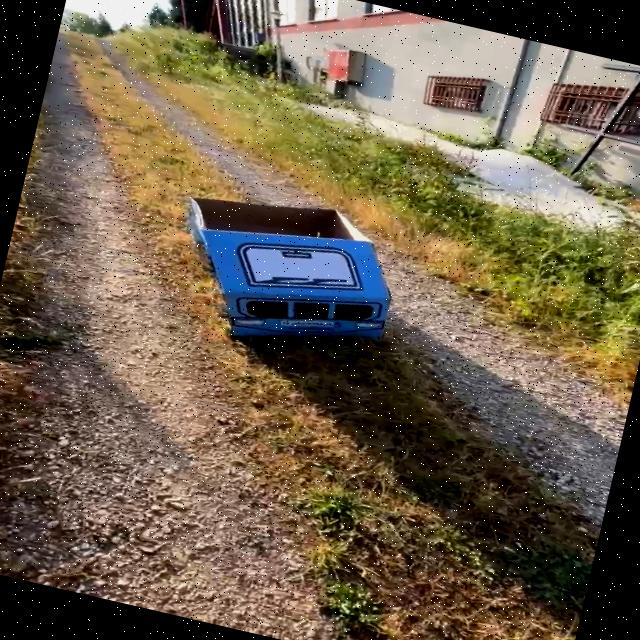blue_car: (121, 142, 476, 415)
